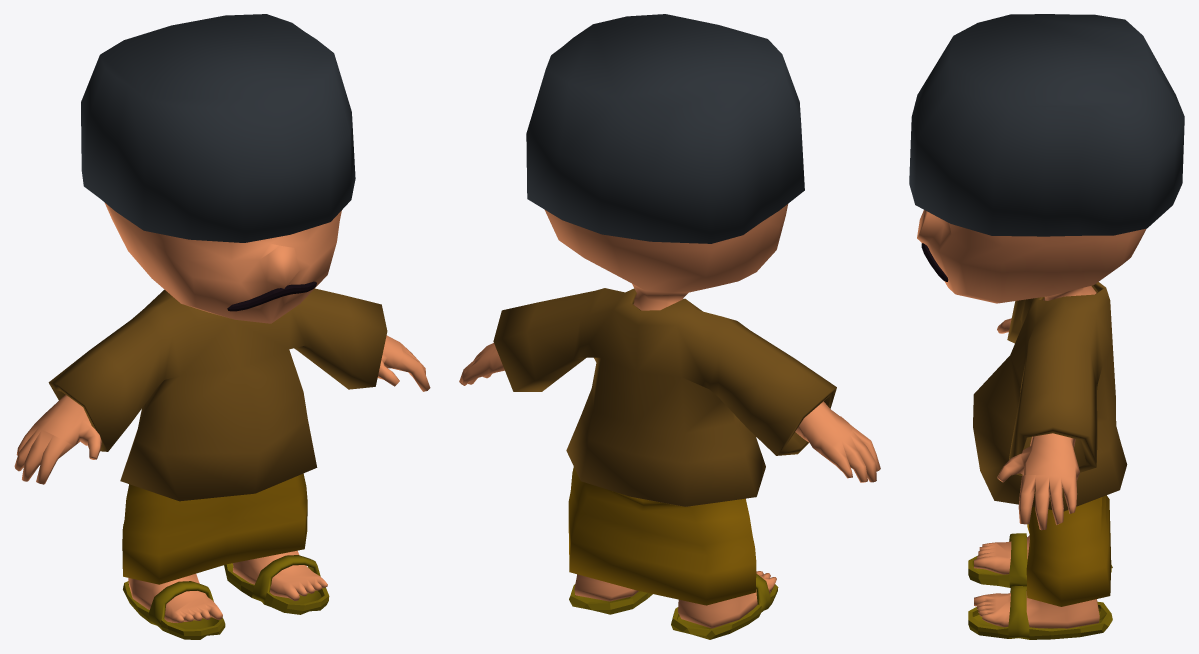
Rendered from Detailing Warga 2.fbx.
3 views of the same model, side by side, from view 1: azimuth 30°, elevation 25°; view 2: azimuth 150°, elevation 25°; view 3: azimuth 270°, elevation 25° (orthographic).
Visible parts, largest first — view 1: Hat, Clothes, Badan + Kepala, Celana, sendal, Mouth; view 2: Hat, Clothes, Badan + Kepala, Celana, sendal; view 3: Hat, Clothes, Badan + Kepala, Celana, sendal.
Boxes of the visible parts, <box> form: Hat: <box>81,14,355,242</box>; Clothes: <box>48,288,387,501</box>; Badan + Kepala: <box>14,203,430,623</box>; Celana: <box>122,473,307,584</box>; sendal: <box>123,555,329,639</box>; Mouth: <box>227,281,316,311</box>; Hat: <box>526,14,804,243</box>; Clothes: <box>493,288,836,506</box>; Badan + Kepala: <box>459,204,880,628</box>; Celana: <box>568,466,756,605</box>; sendal: <box>569,573,778,639</box>; Hat: <box>909,14,1184,236</box>; Clothes: <box>973,282,1127,511</box>; Badan + Kepala: <box>917,210,1146,628</box>; Celana: <box>1026,495,1111,606</box>; sendal: <box>968,533,1112,639</box>.
Bounding box in the file's own units: 380 × 483 × 223.
